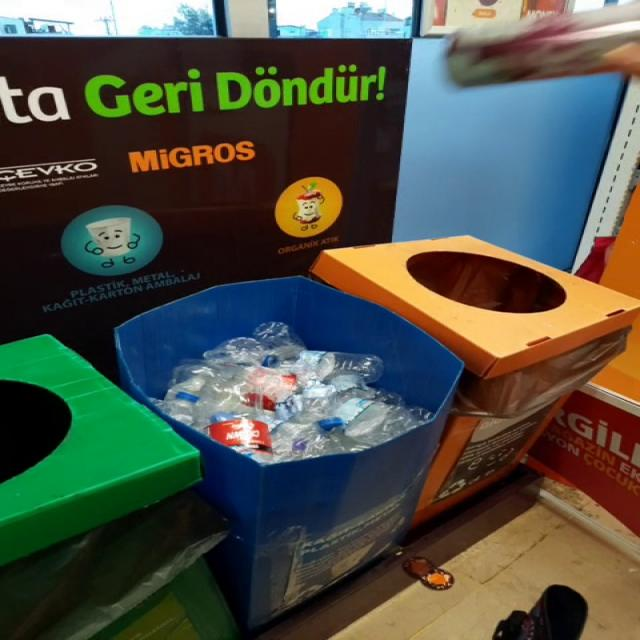bin: (115, 236, 640, 631)
metal: (449, 2, 640, 86)
